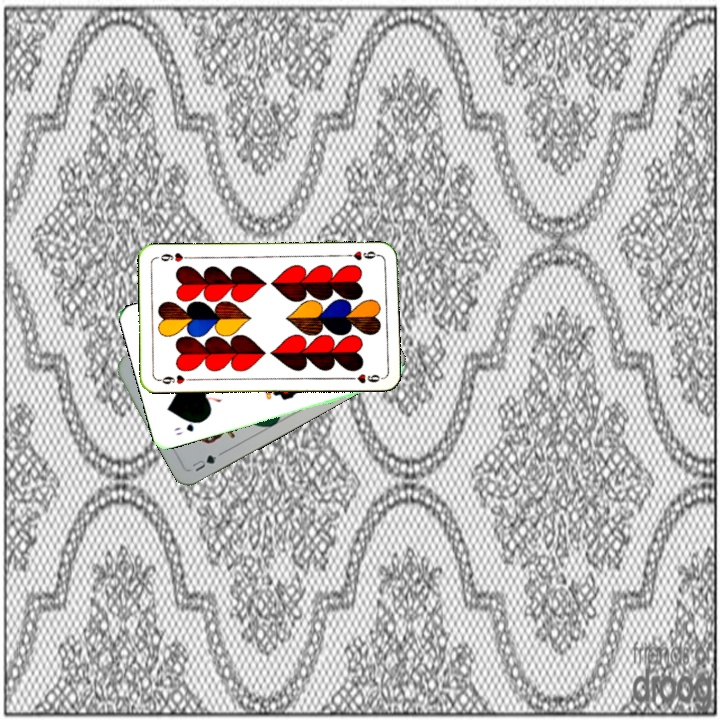GO: (170, 417, 205, 438)
GU: (188, 451, 219, 474)
H9: (342, 247, 382, 263), (154, 371, 195, 386)
